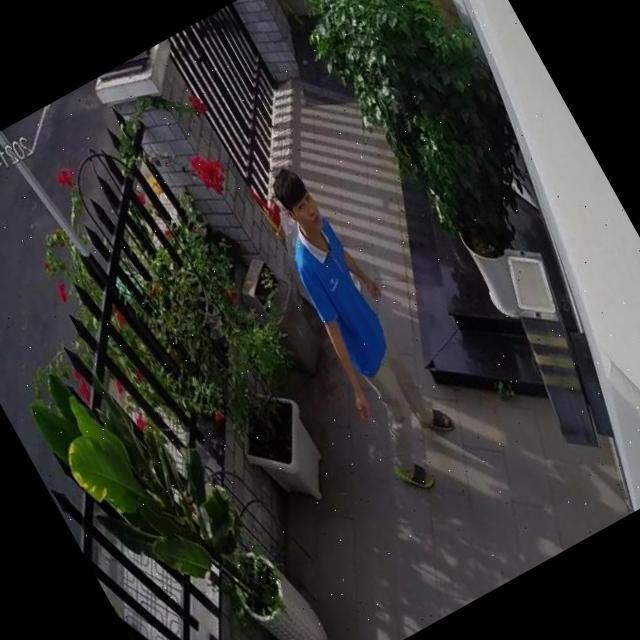person: (237, 156, 477, 502)
